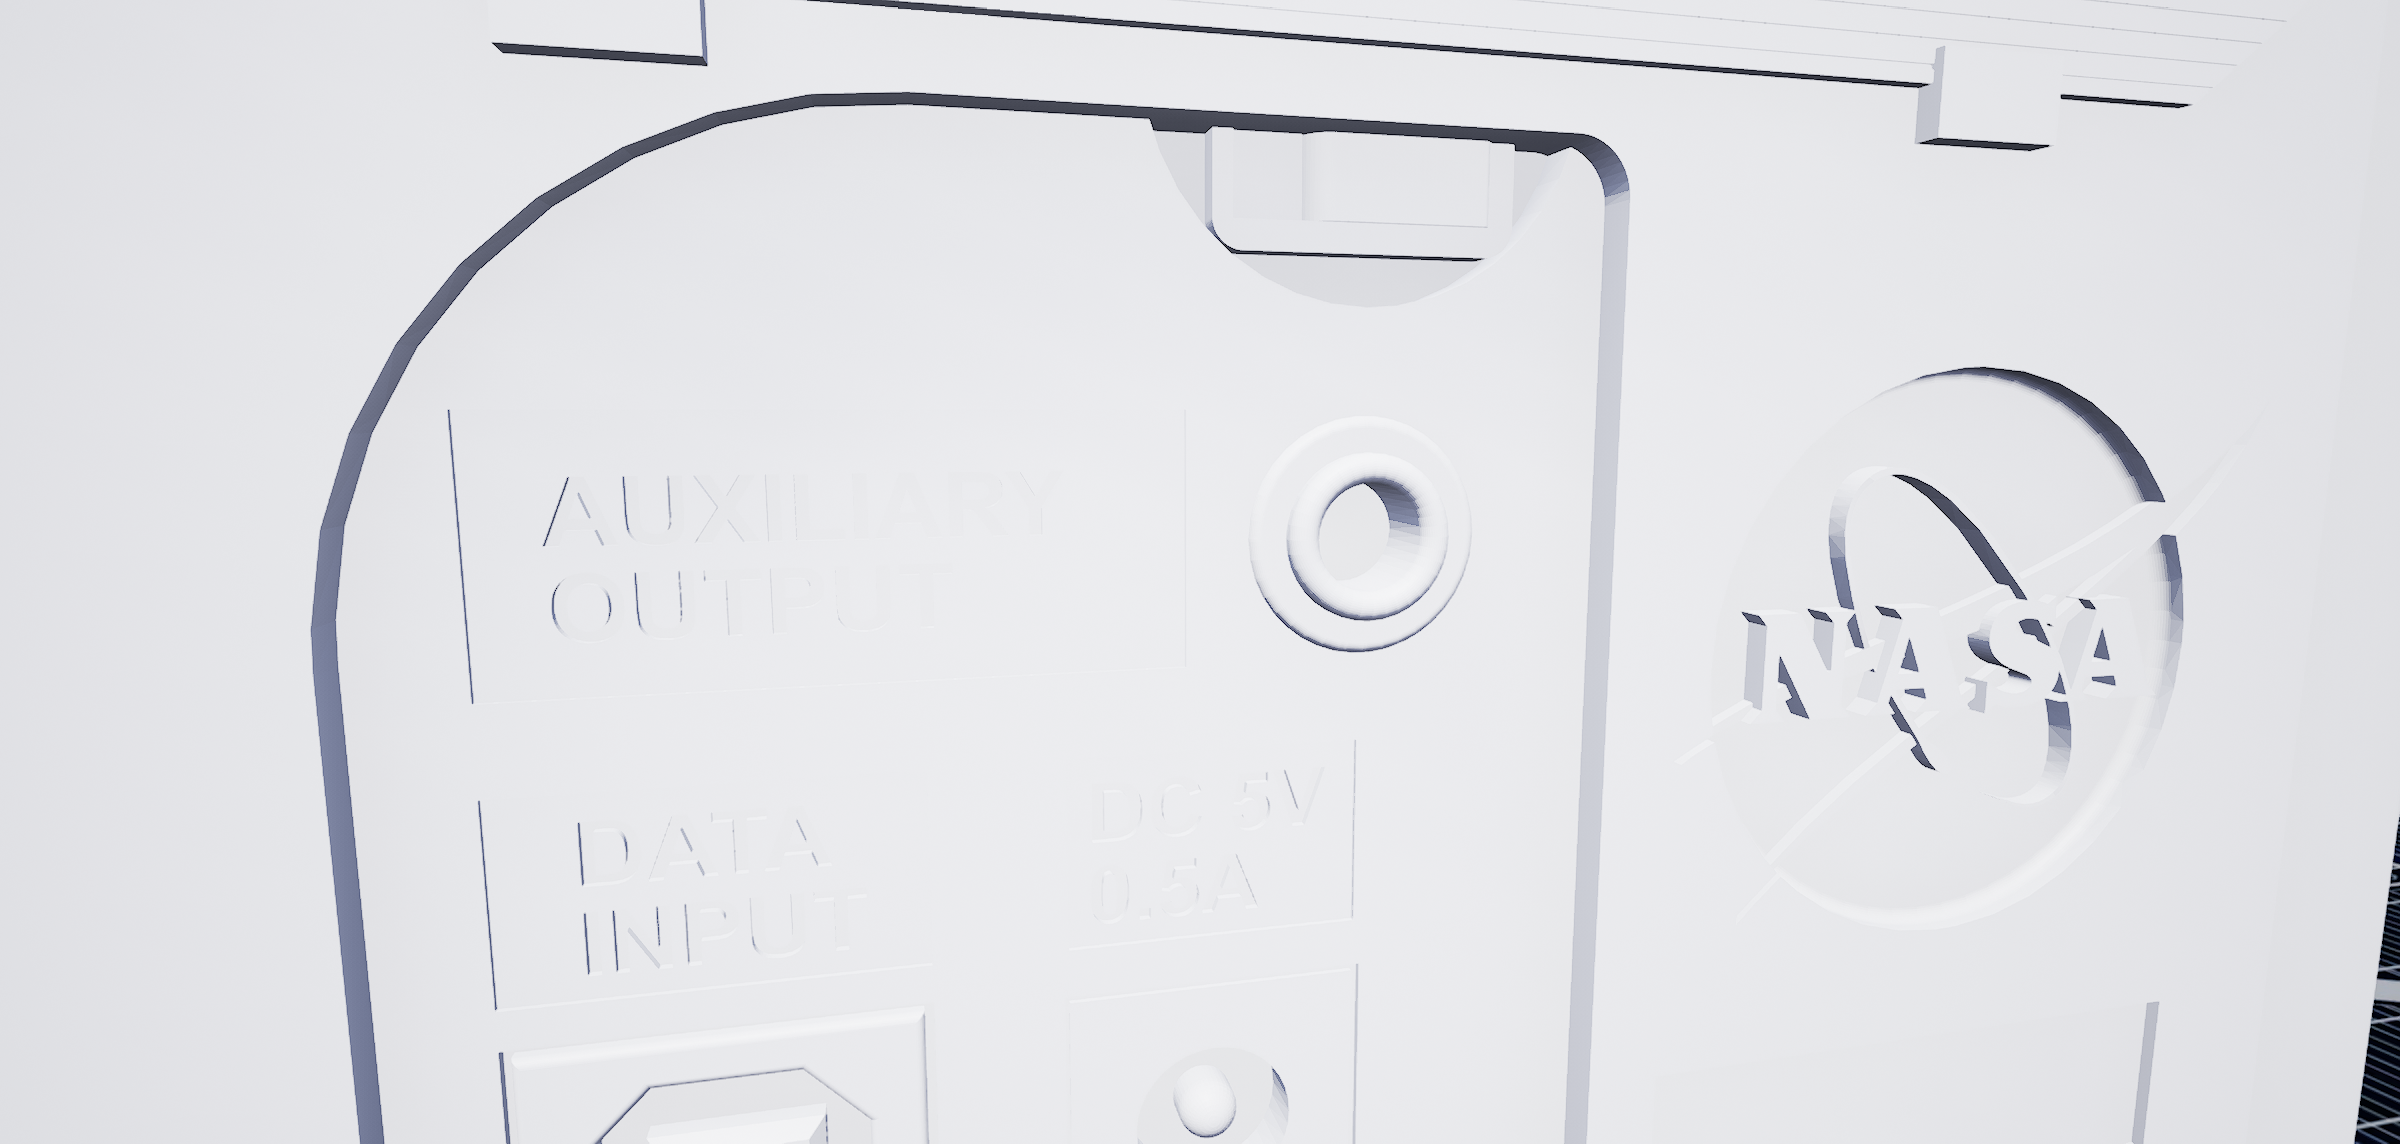aux: (1229, 404, 1494, 678)
dc: (1105, 1037, 1306, 1144)
usb: (563, 1081, 905, 1144)
